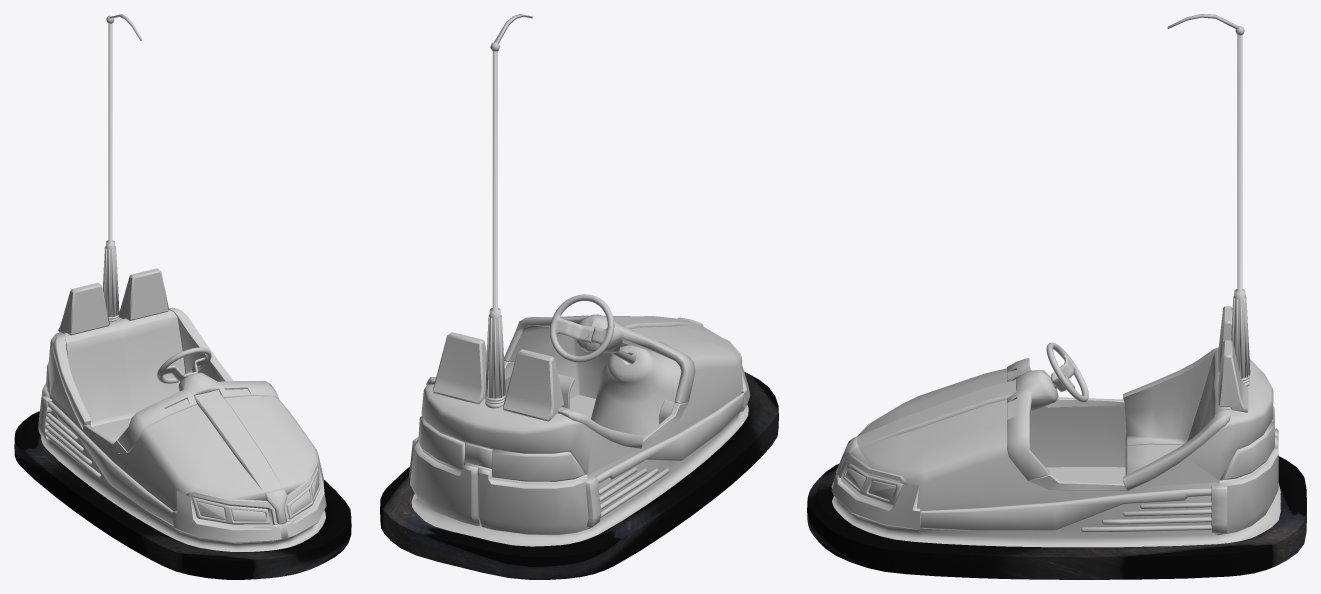
Rendered from carrito.obj.
The picture shows the model from 3 angles, left to right: view 1: azimuth 30°, elevation 25°; view 2: azimuth 150°, elevation 25°; view 3: azimuth 270°, elevation 25°; orthographic projection. The views are drawn at different scales.
Visible parts, largest first — view 1: polySurface642, polySurface607, polySurface483, polySurface632; view 2: polySurface607, polySurface642, polySurface483, polySurface632; view 3: polySurface607, polySurface642, polySurface483, polySurface632.
Part boxes in pixels (bbox=[...]): polySurface642: bbox=[39, 268, 326, 543]; polySurface607: bbox=[38, 14, 325, 551]; polySurface483: bbox=[14, 411, 351, 579]; polySurface632: bbox=[45, 413, 192, 497]; polySurface607: bbox=[409, 14, 748, 546]; polySurface642: bbox=[410, 314, 750, 535]; polySurface483: bbox=[380, 372, 778, 579]; polySurface632: bbox=[504, 334, 688, 517]; polySurface607: bbox=[832, 14, 1280, 547]; polySurface642: bbox=[831, 306, 1278, 535]; polySurface483: bbox=[807, 456, 1306, 579]; polySurface632: bbox=[866, 396, 1211, 532].
Bounding box in the file's own units: 8.04 × 16.36 × 14.56.
